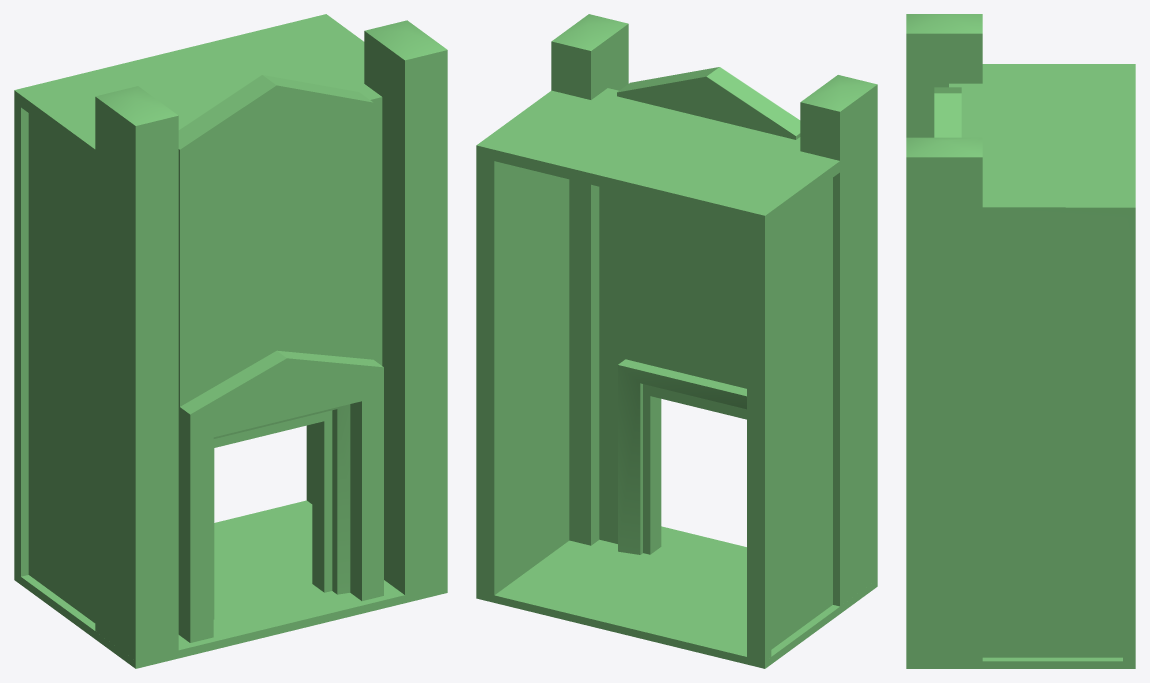
File: Bld3_Wall_Entr.fbx
3 views of the same model, side by side, from view 1: azimuth 30°, elevation 25°; view 2: azimuth 150°, elevation 25°; view 3: azimuth 270°, elevation 25° (orthographic). The views are drawn at different scales.
Visible parts, largest first — view 1: Bld3_Wall_Entr; view 2: Bld3_Wall_Entr; view 3: Bld3_Wall_Entr.
Boxes of the visible parts, box(x1,y1,x2,y2) form: Bld3_Wall_Entr: box(14, 14, 447, 668); Bld3_Wall_Entr: box(476, 14, 877, 668); Bld3_Wall_Entr: box(906, 14, 1135, 668).
Bounding box in the file's own units: 600 × 1013 × 405.
